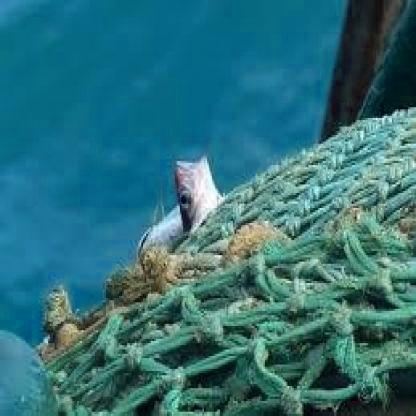net: (67, 118, 416, 416)
